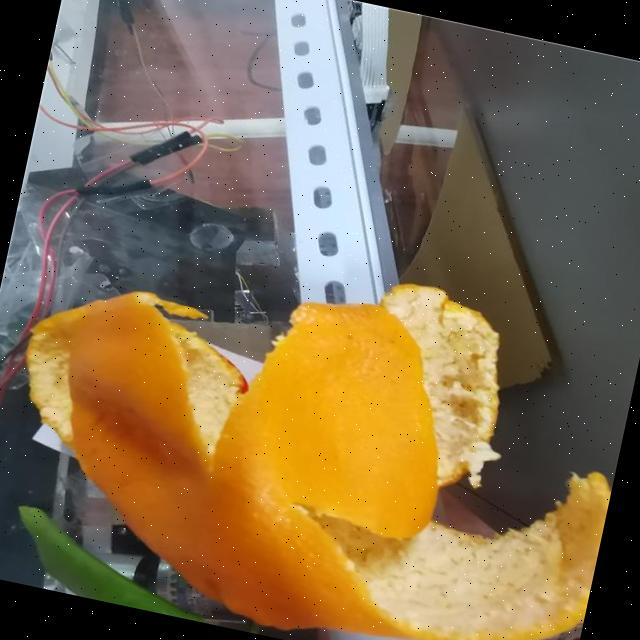orange-peel: (0, 219, 639, 640)
